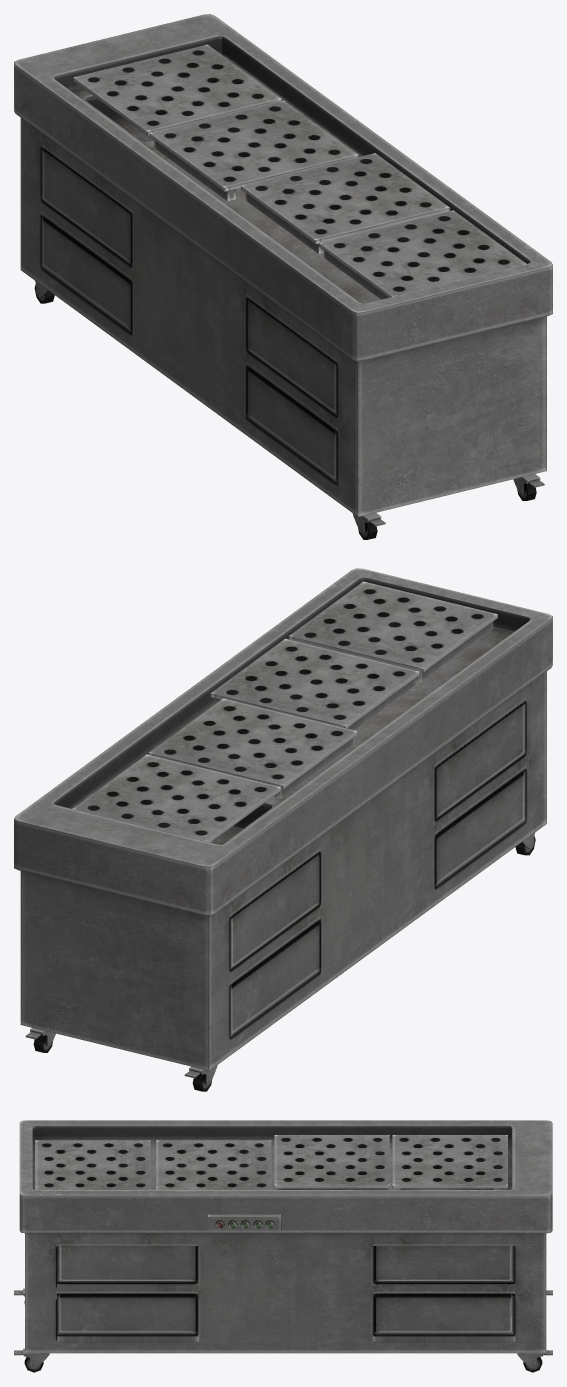
File: Base_NL_Autopsy_Table.fbx
The picture shows the model from 3 angles, top to bottom: view 1: azimuth 30°, elevation 25°; view 2: azimuth 150°, elevation 25°; view 3: azimuth 270°, elevation 25°; orthographic projection. The views are drawn at different scales.
Visible parts, largest first — view 1: Base_NL_Autopsy_Table; view 2: Base_NL_Autopsy_Table; view 3: Base_NL_Autopsy_Table.
Part boxes in pixels (left/top/right/bottom): Base_NL_Autopsy_Table: left=14, top=14, right=552, bottom=539; Base_NL_Autopsy_Table: left=14, top=568, right=552, bottom=1091; Base_NL_Autopsy_Table: left=14, top=1120, right=552, bottom=1372.
Size of the model in its own units: 69.6 by 74.97 by 200.
Materials: 1 (1 with a texture image).
